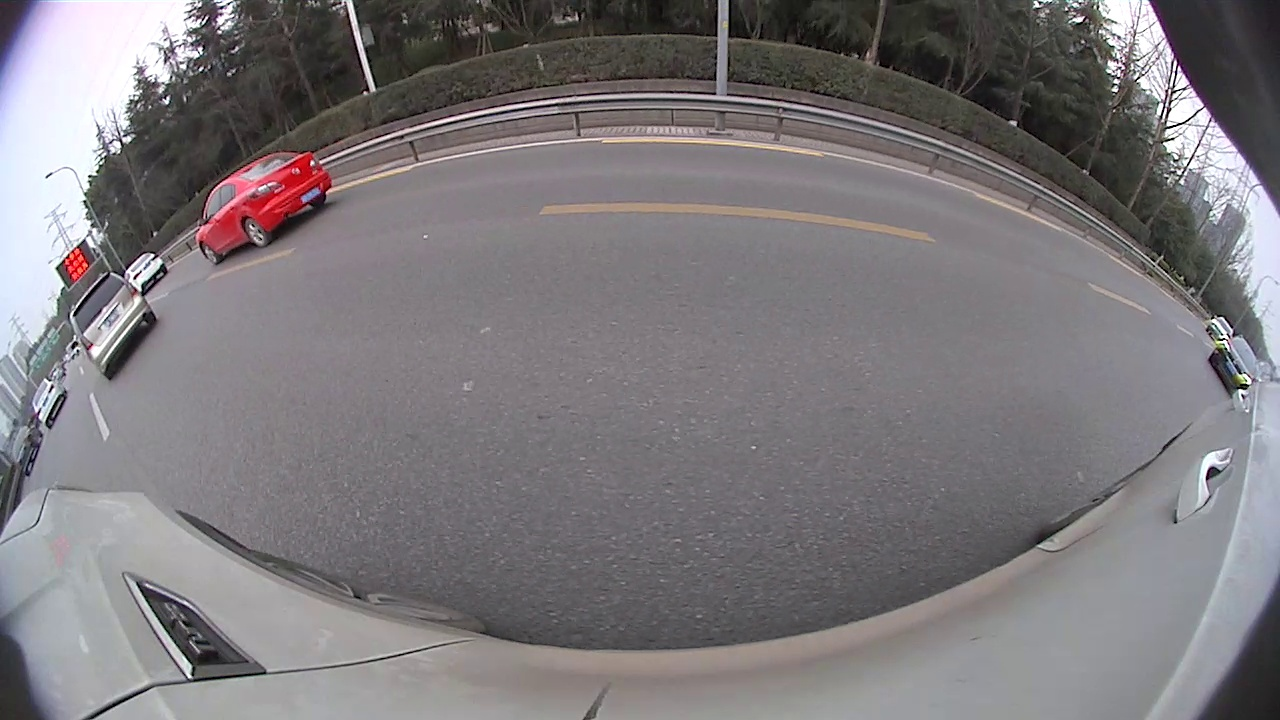bus: (1138, 143, 1278, 414), (838, 130, 1064, 204)
car: (1, 219, 259, 470), (854, 138, 1156, 323), (595, 138, 694, 216), (454, 153, 552, 218), (725, 161, 776, 192), (792, 166, 842, 197)
front: (137, 286, 249, 412), (858, 195, 893, 244)
rear: (995, 243, 1063, 318), (517, 185, 530, 213)
